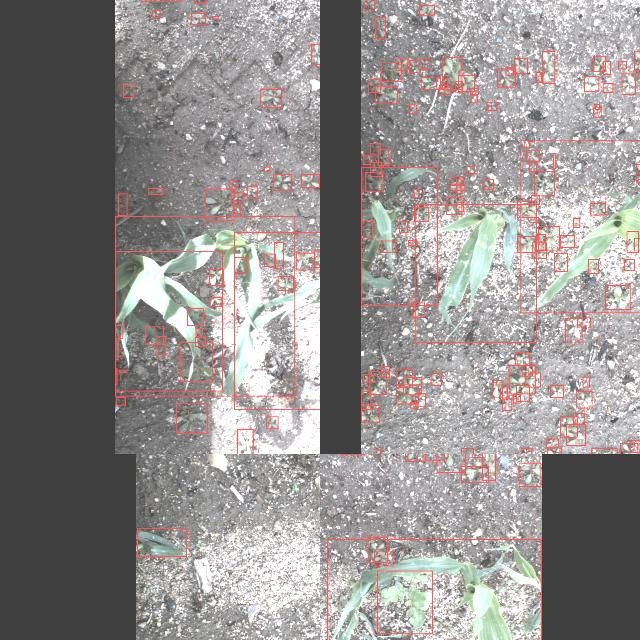crop: (115, 217, 295, 396), (328, 539, 542, 640), (521, 141, 640, 313), (414, 205, 536, 343), (234, 232, 320, 409), (115, 252, 223, 391), (361, 167, 437, 306), (137, 529, 186, 557), (115, 326, 123, 338), (114, 336, 118, 360), (115, 368, 116, 384)
weed: (378, 570, 432, 634), (180, 342, 212, 382), (176, 403, 207, 433), (204, 189, 233, 221), (509, 366, 535, 394), (442, 57, 462, 89), (606, 286, 630, 310), (538, 226, 560, 250), (436, 454, 465, 472), (534, 170, 554, 196), (519, 464, 541, 486), (367, 538, 387, 562), (396, 384, 418, 404), (566, 424, 586, 446), (260, 89, 282, 108), (462, 466, 488, 482), (381, 62, 401, 82), (368, 372, 386, 394), (543, 51, 555, 83), (374, 87, 398, 103), (566, 318, 582, 342), (237, 429, 252, 454), (482, 454, 496, 480), (364, 172, 382, 192), (560, 417, 578, 437), (296, 252, 314, 270), (145, 326, 163, 344), (497, 69, 515, 87), (403, 377, 421, 395), (396, 368, 412, 388), (273, 174, 291, 190), (187, 308, 203, 326), (518, 202, 536, 218), (517, 236, 535, 252), (361, 406, 379, 422), (622, 74, 636, 94), (458, 75, 474, 92), (446, 198, 462, 215), (373, 552, 392, 566), (274, 242, 284, 268), (584, 76, 600, 92), (576, 392, 592, 408), (301, 174, 319, 188), (554, 253, 568, 271), (420, 77, 440, 89), (627, 232, 639, 252), (278, 276, 294, 290), (209, 269, 223, 285), (514, 58, 528, 74), (532, 242, 546, 258), (516, 385, 530, 401), (375, 17, 385, 38), (361, 220, 372, 238), (414, 207, 428, 221), (515, 352, 529, 366), (526, 373, 540, 387), (594, 56, 606, 72), (590, 203, 606, 215), (311, 43, 320, 64), (620, 443, 637, 454), (157, 336, 166, 356), (492, 380, 502, 398), (360, 391, 370, 409), (118, 193, 126, 214), (234, 258, 246, 272), (526, 150, 540, 162), (381, 240, 395, 252), (560, 235, 574, 247), (412, 302, 424, 316), (550, 386, 564, 398), (418, 5, 434, 15), (378, 149, 388, 165), (536, 235, 546, 251), (191, 13, 205, 24), (591, 448, 616, 454), (264, 254, 276, 266), (266, 416, 278, 428), (368, 80, 380, 92), (408, 59, 419, 72), (123, 84, 133, 98), (370, 162, 380, 176), (588, 259, 598, 273), (397, 59, 408, 71), (247, 186, 257, 198), (231, 192, 243, 202), (578, 318, 590, 328), (522, 364, 532, 376), (502, 398, 512, 410), (431, 373, 441, 385), (415, 394, 425, 406), (630, 441, 640, 453), (546, 438, 558, 448), (405, 454, 422, 461), (425, 454, 444, 460), (482, 179, 493, 189), (314, 250, 320, 268), (364, 0, 374, 10), (635, 51, 640, 71), (436, 78, 446, 88), (419, 59, 429, 69), (370, 144, 380, 154), (624, 260, 634, 270), (574, 414, 584, 424), (210, 298, 222, 306), (438, 86, 450, 94), (451, 176, 463, 184), (195, 338, 205, 347), (546, 448, 561, 454), (381, 367, 389, 378), (148, 188, 162, 194), (499, 388, 506, 400), (115, 397, 125, 405), (593, 107, 601, 117), (486, 102, 496, 110), (456, 202, 464, 212), (529, 162, 537, 172), (399, 222, 407, 232), (582, 377, 590, 387), (363, 374, 373, 382), (604, 61, 610, 74), (634, 237, 640, 250), (408, 105, 416, 114), (636, 164, 640, 182), (461, 448, 473, 454), (152, 10, 160, 18), (233, 205, 241, 213), (618, 61, 626, 69), (604, 84, 612, 92), (506, 68, 514, 76), (362, 156, 370, 164), (466, 166, 474, 174), (456, 178, 460, 194), (531, 196, 539, 204), (230, 180, 236, 190), (536, 72, 542, 82), (456, 82, 462, 92), (412, 188, 418, 198), (574, 218, 580, 228), (521, 448, 531, 454), (450, 186, 464, 190), (514, 393, 520, 402), (196, 328, 202, 336), (470, 96, 478, 102), (470, 88, 478, 94), (524, 140, 530, 148), (408, 240, 416, 246), (410, 402, 418, 408), (473, 454, 485, 458), (194, 0, 206, 3), (594, 104, 600, 110), (530, 218, 538, 222), (553, 154, 555, 168), (375, 449, 380, 454), (212, 16, 218, 20), (264, 167, 270, 171), (118, 370, 125, 372)
